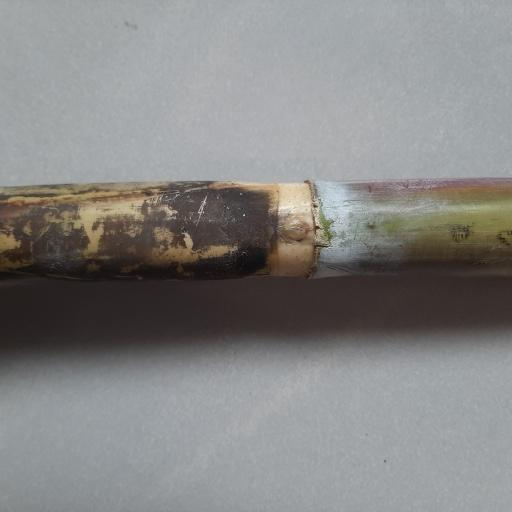Bud: (278, 218, 309, 242)
